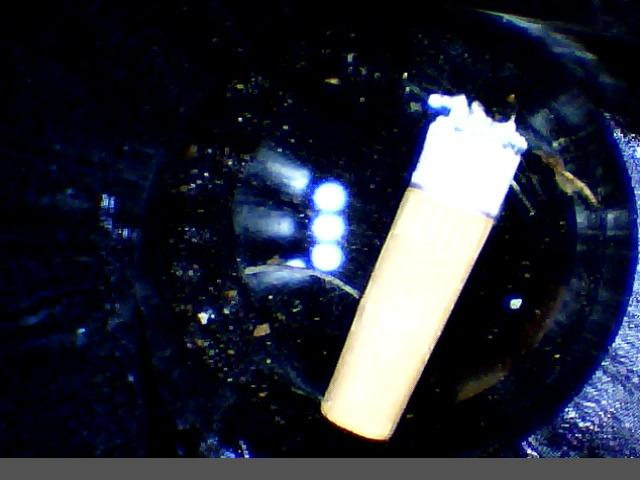megot: (307, 90, 530, 443)
